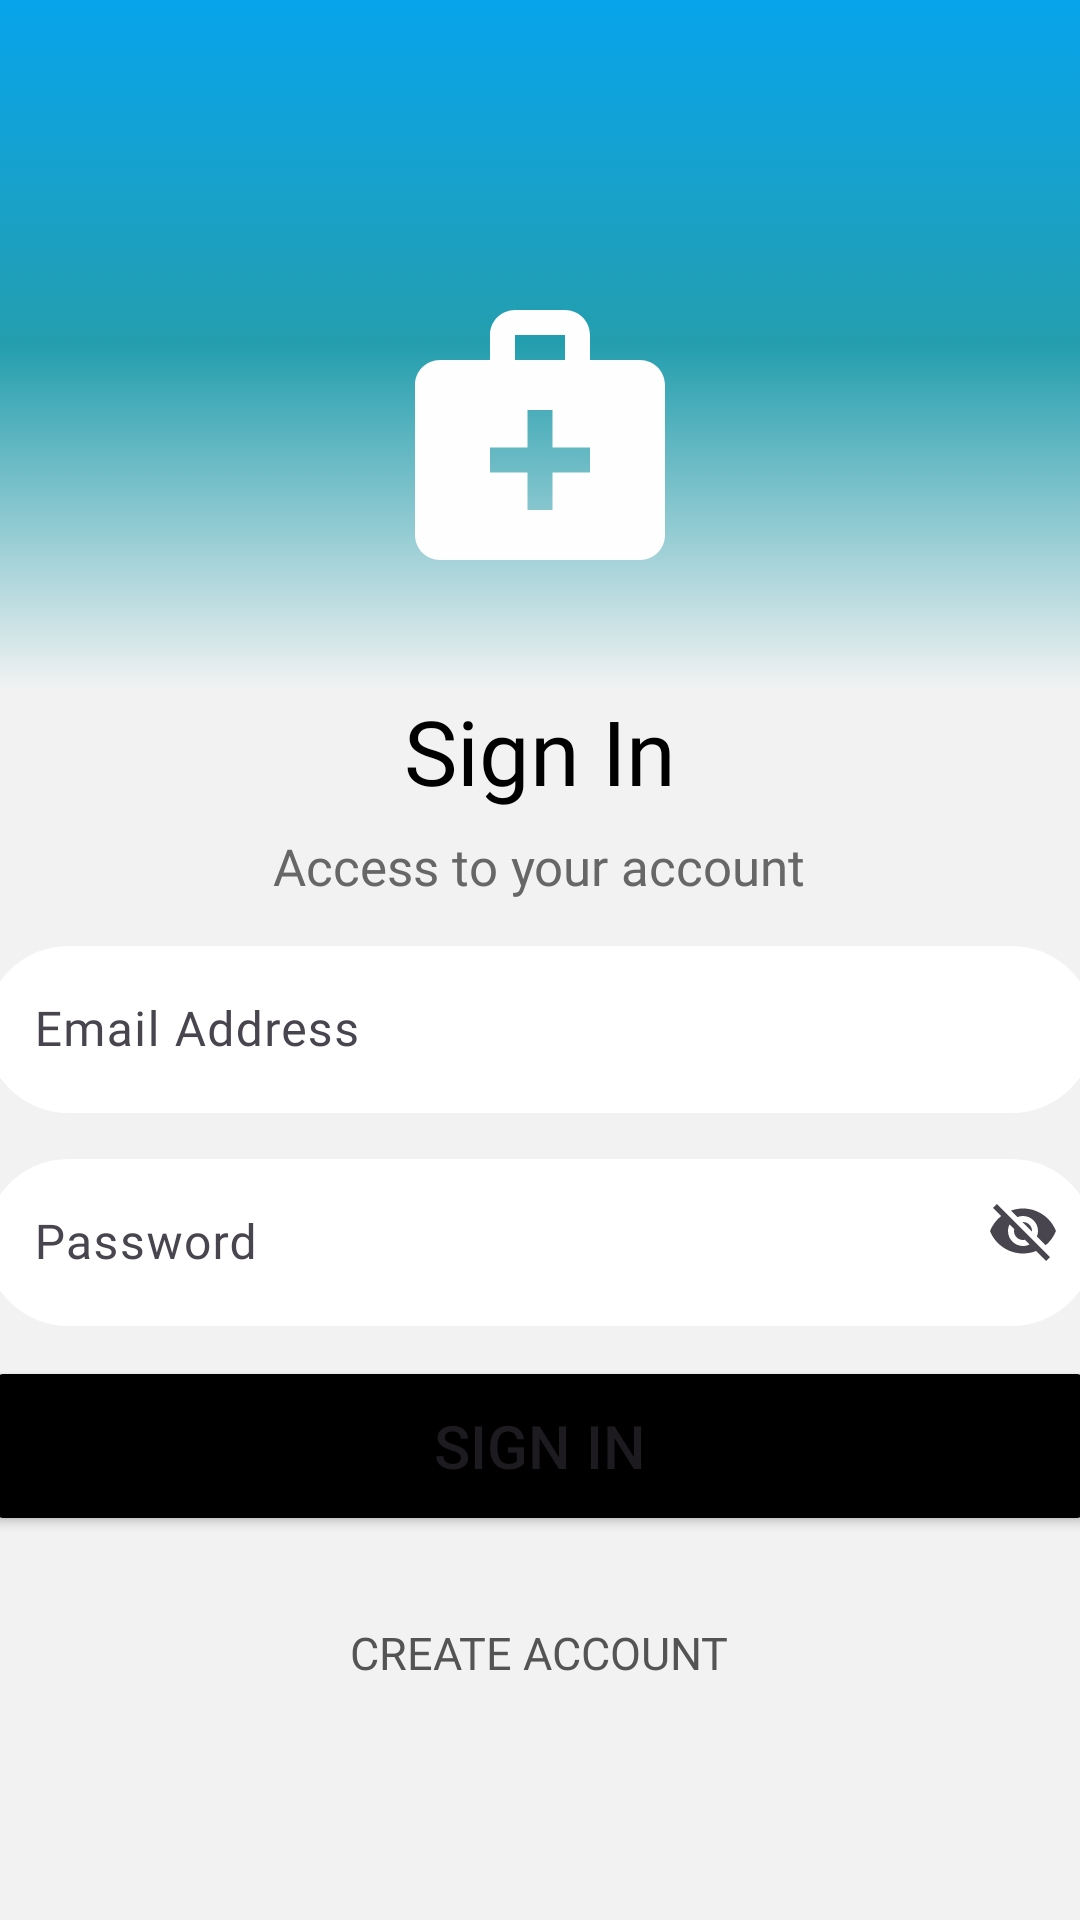

Point at icon controls on the screen. Image size 1080×1920, points as [x,y].
medical services: [540,435]
